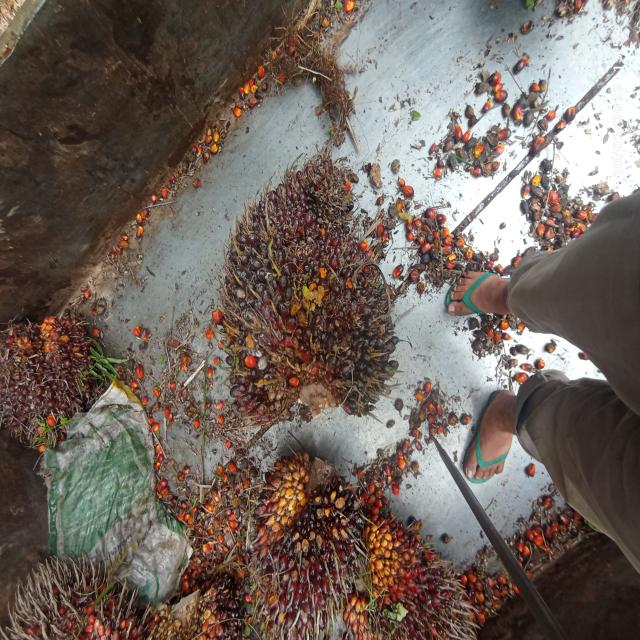fraksi 00: (208, 158, 420, 475)
fraksi 1: (239, 432, 362, 626), (0, 314, 94, 456)
fraksi 3: (340, 506, 464, 640)
